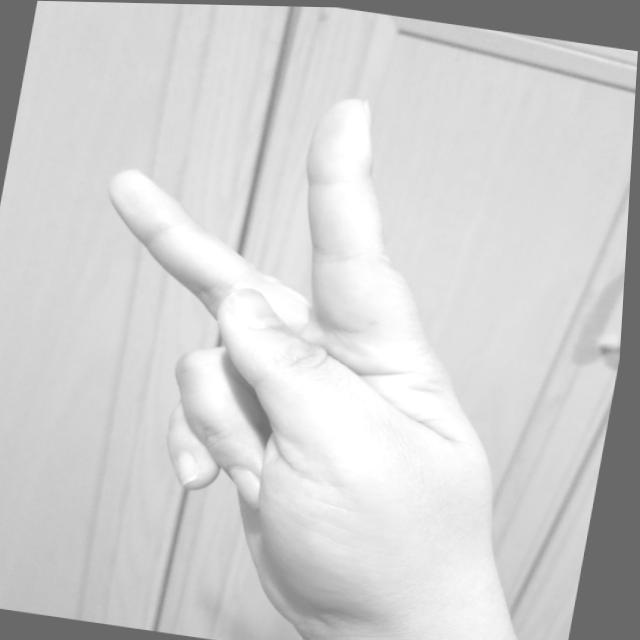K: (29, 51, 588, 639)
